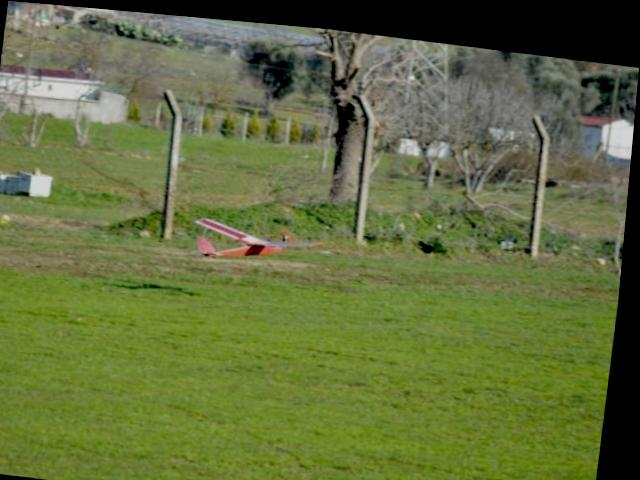iha: (192, 205, 335, 266)
